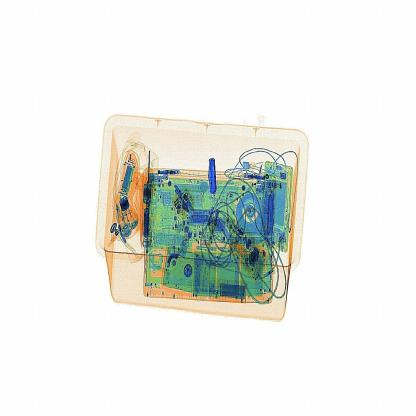knife: (199, 147, 225, 204)
